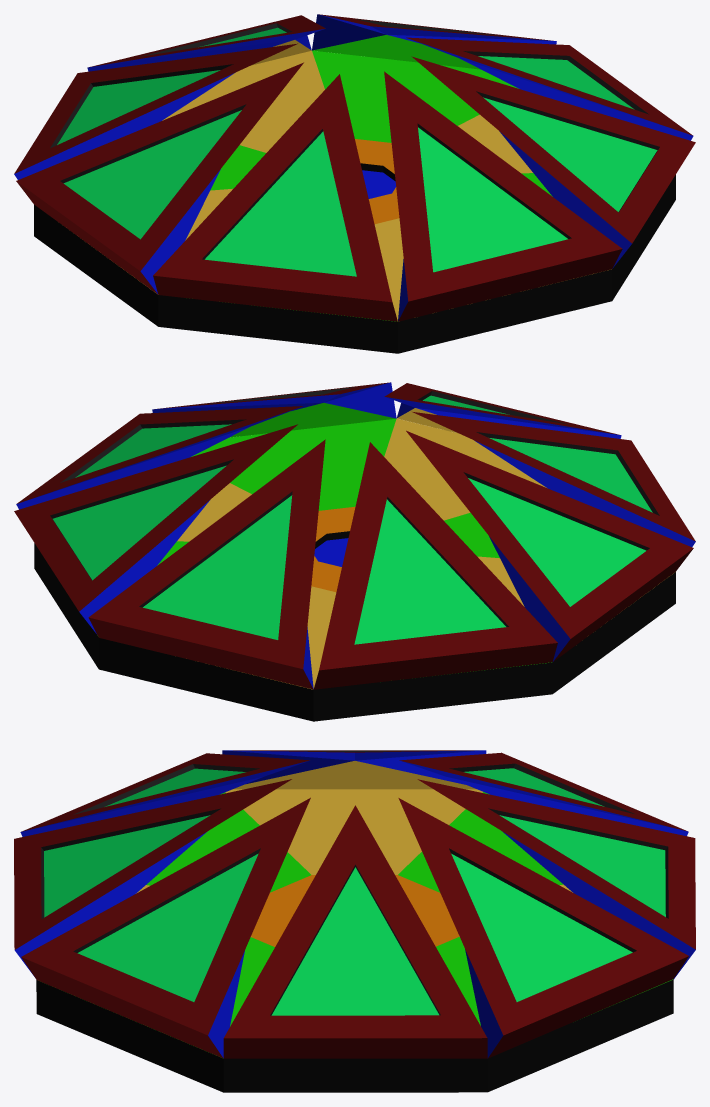
Rendered from spawner1.obj.
3 views of the same model, one above another, from view 1: azimuth 30°, elevation 25°; view 2: azimuth 150°, elevation 25°; view 3: azimuth 270°, elevation 25° (orthographic). The views are drawn at different scales.
Visible parts, largest first — view 1: Cone; view 2: Cone; view 3: Cone.
Boxes of the visible parts, x1,y1,x2,y2 form: Cone: [14, 14, 695, 353]; Cone: [14, 382, 695, 721]; Cone: [14, 750, 695, 1092].
Bounding box in the file's own units: 1.07 × 0.31 × 1.07.
